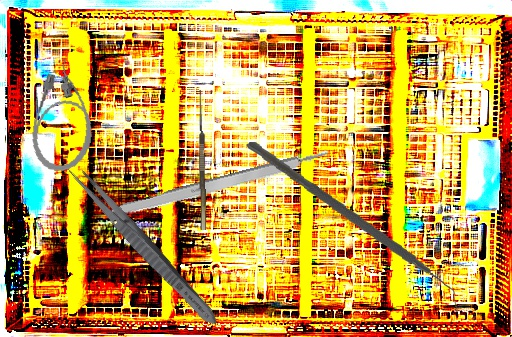Cannula: (26, 54, 104, 177)
Chopper: (235, 141, 470, 313)
Dressing Forceps: (63, 161, 224, 331)
Hook Surgical: (190, 89, 207, 231)
Scalpel Handle: (99, 147, 332, 225)
